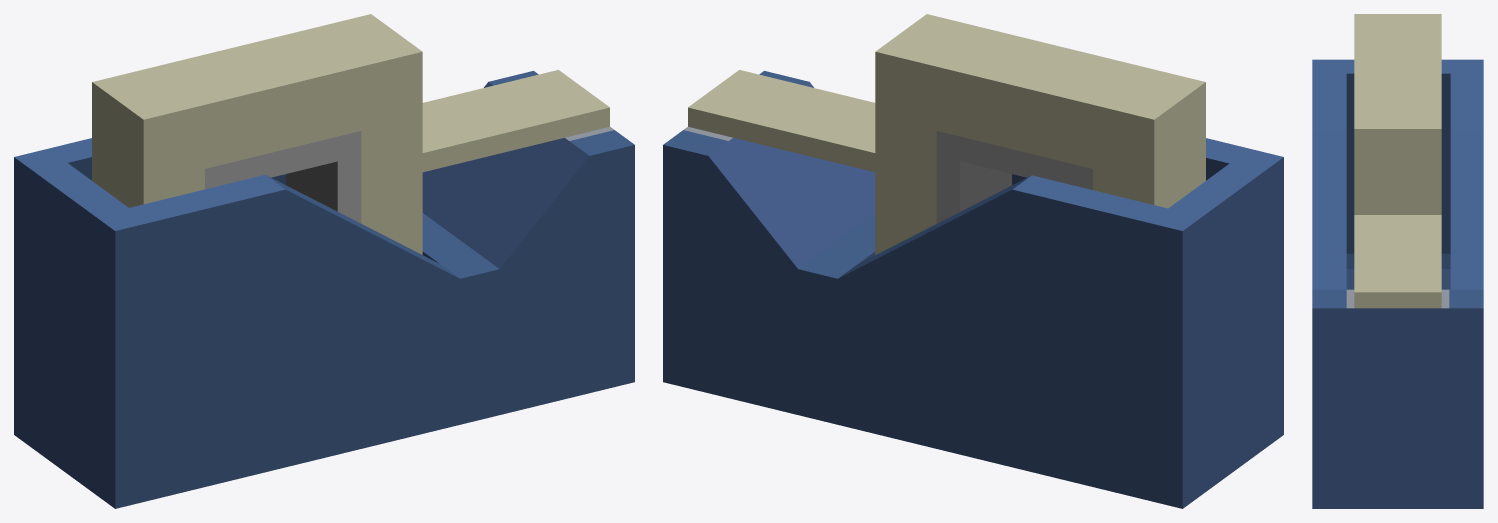
File: SO_SellotapeDispenser_01.fbx
The picture shows the model from 3 angles, left to right: view 1: azimuth 30°, elevation 25°; view 2: azimuth 150°, elevation 25°; view 3: azimuth 270°, elevation 25°; orthographic projection. The views are drawn at different scales.
Visible parts, largest first — view 1: SO_SellotapeDispenser_01; view 2: SO_SellotapeDispenser_01; view 3: SO_SellotapeDispenser_01.
Part boxes in pixels (bbox=[...]): SO_SellotapeDispenser_01: bbox=[14, 14, 634, 508]; SO_SellotapeDispenser_01: bbox=[663, 14, 1283, 508]; SO_SellotapeDispenser_01: bbox=[1312, 14, 1483, 508].
Size of the model in its own units: 0.2954 by 0.1945 by 0.0997.
